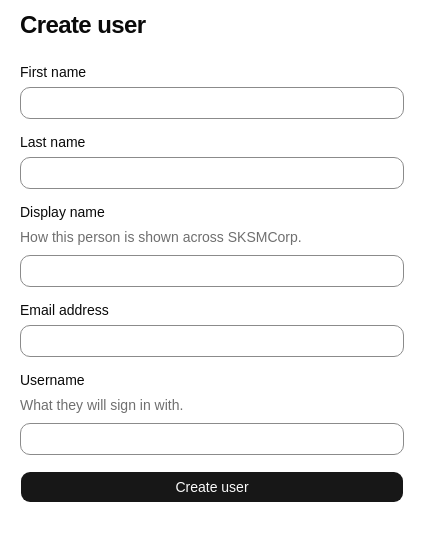
it: creating a user › does not submit until every field has been given
Type "Ada" into the field labelled "First name". click: (212, 103)
box: [20,87,404,119]
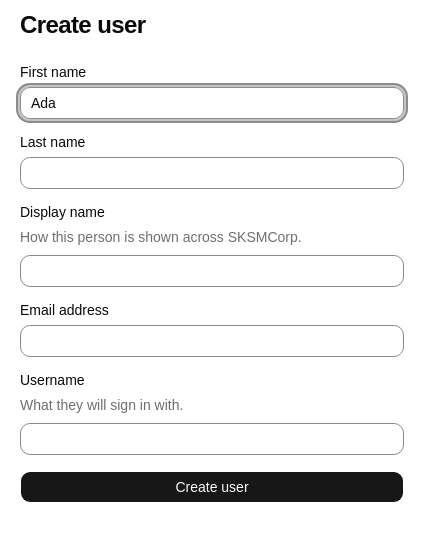
Click the button "Create user". click: (212, 487)
box: [20,471,404,503]
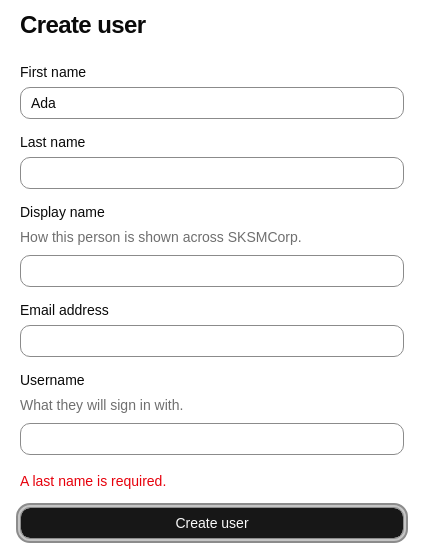
Expected: the message "A last name is required." is shown, [20,473,166,489]
